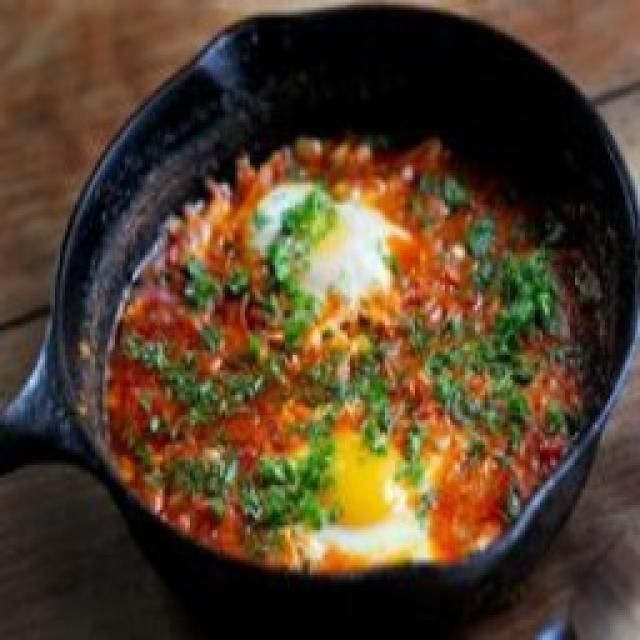Chakchouka: (0, 5, 640, 640)
